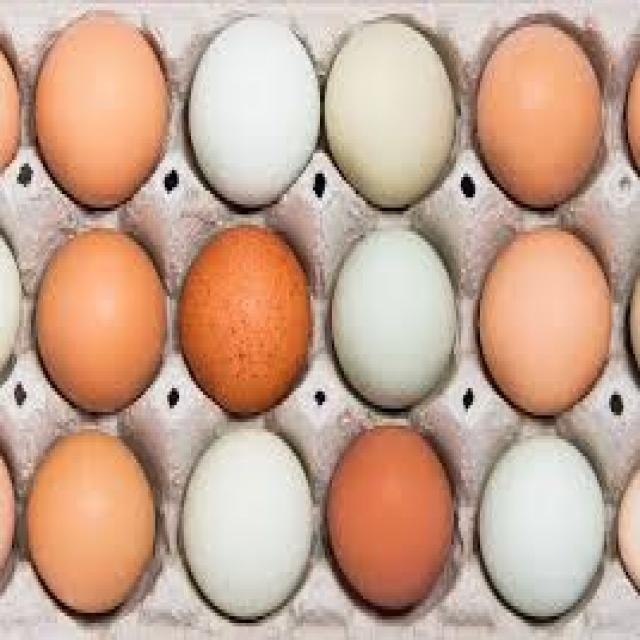egg: (467, 228, 639, 457), (466, 416, 623, 633), (178, 412, 330, 631), (320, 412, 470, 618), (28, 13, 184, 207), (18, 427, 169, 627), (315, 215, 470, 403), (27, 223, 170, 426), (316, 28, 466, 216), (182, 12, 328, 204), (174, 226, 318, 413), (472, 19, 603, 220)
